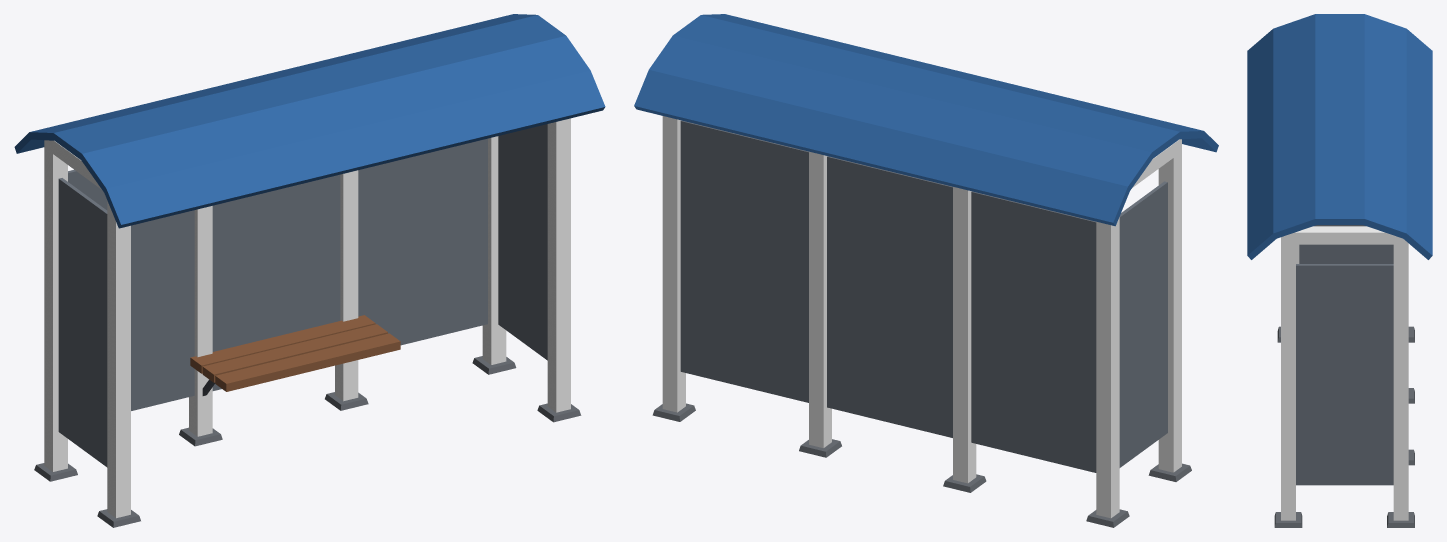
The model's file is BusStop_1.fbx.
The picture shows the model from 3 angles, left to right: view 1: azimuth 30°, elevation 25°; view 2: azimuth 150°, elevation 25°; view 3: azimuth 270°, elevation 25°; orthographic projection. The views are drawn at different scales.
Visible parts, largest first — view 1: BusStop_1; view 2: BusStop_1; view 3: BusStop_1.
Part boxes in pixels (x1,y1,x2,y2): BusStop_1: (14,14,605,527); BusStop_1: (634,14,1218,527); BusStop_1: (1247,14,1432,527).
Size of the model in its own units: 339 by 241 by 130.
